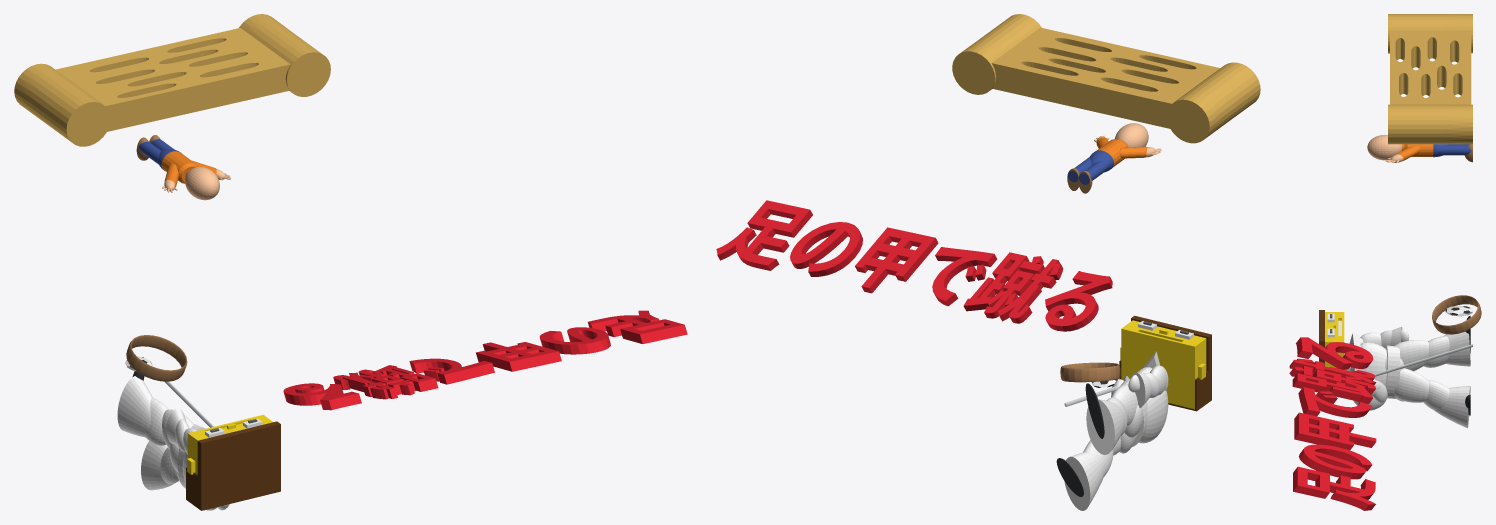
File: tinker.obj
The picture shows the model from 3 angles, left to right: view 1: azimuth 30°, elevation 25°; view 2: azimuth 150°, elevation 25°; view 3: azimuth 270°, elevation 25°; orthographic projection. The views are drawn at different scales.
Parts seen in each view (by area): view 1: group_0_14528853, group_0_15277357, group_0_6306067, group_0_16448250, group_0_11107152, group_0_16500122, group_0_16768282, group_0_16089887; view 2: group_0_14528853, group_0_15277357, group_0_16448250, group_0_16768282, group_0_11107152, group_0_6306067, group_0_2829873, group_0_3888547, group_0_16089887, group_0_16500122; view 3: group_0_14528853, group_0_15277357, group_0_16448250, group_0_11107152, group_0_16500122, group_0_16768282, group_0_16089887, group_0_3888547, group_0_14541540, group_0_6306067, group_0_2829873.
Part boxes in pixels (box(x1,y1,x2,y2)): group_0_14528853: box(14, 14, 330, 146); group_0_15277357: box(283, 310, 687, 410); group_0_6306067: box(186, 421, 280, 510); group_0_16448250: box(117, 357, 262, 510); group_0_11107152: box(126, 135, 187, 381); group_0_16500122: box(162, 166, 231, 200); group_0_16768282: box(187, 414, 273, 474); group_0_16089887: box(161, 151, 216, 187); group_0_14528853: box(952, 14, 1260, 143); group_0_15277357: box(716, 200, 1112, 331); group_0_16448250: box(1064, 321, 1193, 510); group_0_16768282: box(1120, 320, 1206, 409); group_0_11107152: box(1060, 168, 1120, 382); group_0_6306067: box(1119, 315, 1211, 411); group_0_2829873: box(1056, 379, 1117, 496); group_0_3888547: box(1067, 150, 1113, 184); group_0_16089887: box(1096, 137, 1147, 167); group_0_16500122: box(1094, 123, 1161, 157); group_0_14528853: box(1388, 14, 1472, 144); group_0_15277357: box(1289, 337, 1376, 510); group_0_16448250: box(1327, 305, 1472, 428); group_0_11107152: box(1432, 144, 1481, 334); group_0_16500122: box(1367, 134, 1403, 162); group_0_16768282: box(1325, 312, 1344, 367); group_0_16089887: box(1395, 144, 1433, 161); group_0_3888547: box(1433, 144, 1471, 157); group_0_14541540: box(1374, 344, 1472, 376); group_0_6306067: box(1319, 310, 1324, 391); group_0_2829873: box(1445, 306, 1470, 415).
Bounding box in the file's own units: 233 × 176 × 83.71.
